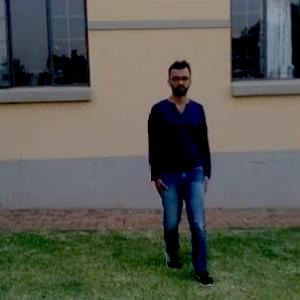follow: (147, 61, 208, 272)
